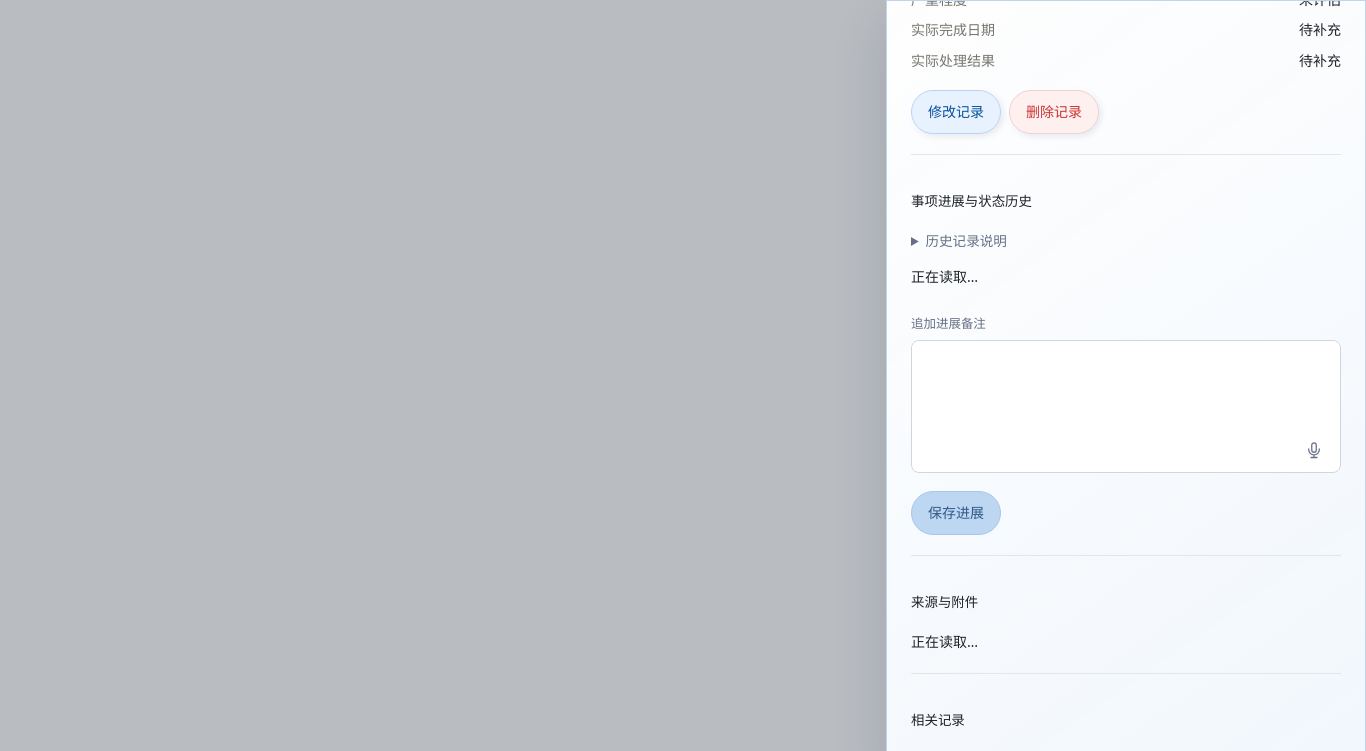
Test case: 待办进展失败保留草稿，重试追加成功且不修改原记录
(page scrolled)
Type "电工明天到场" into the text box labelled "追加进展备注". click: (1126, 384)
box: [912,341,1340,428]
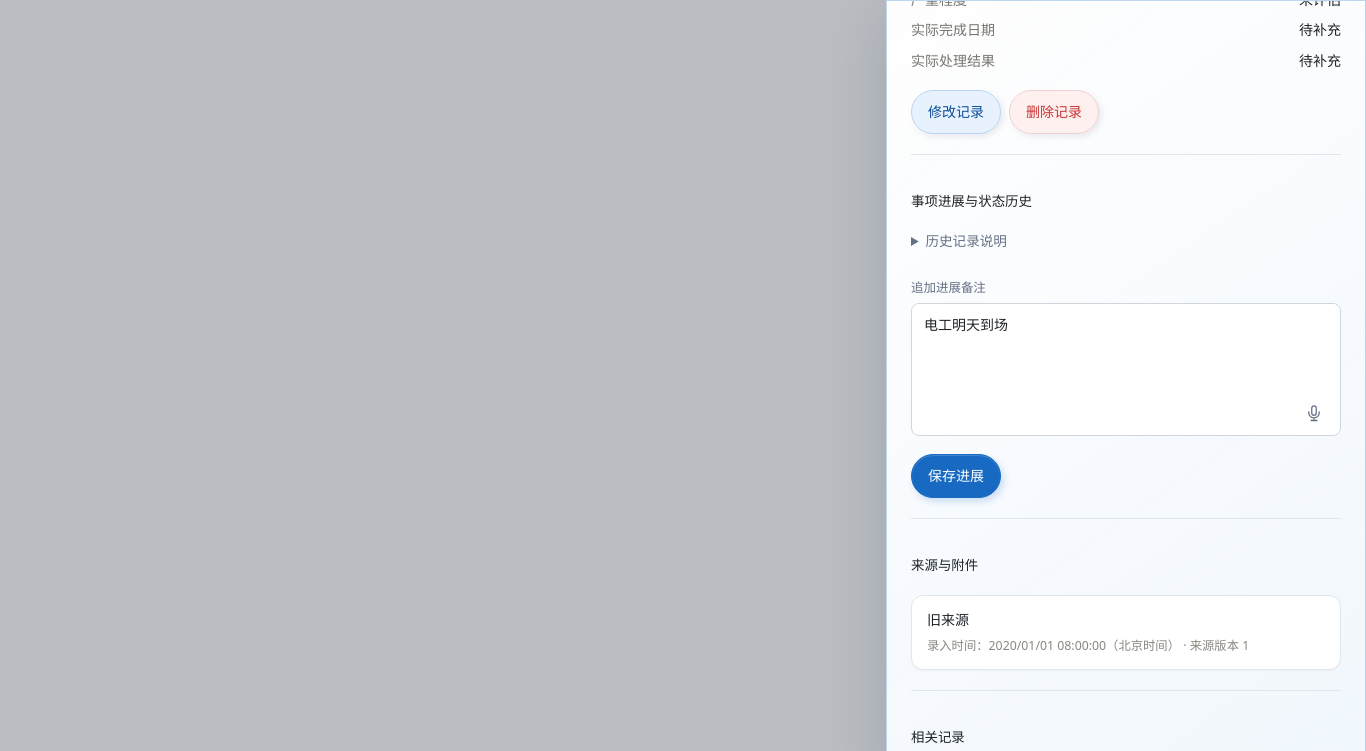
Click the button "保存进展". click: (956, 476)
box: [911,454,1001,498]
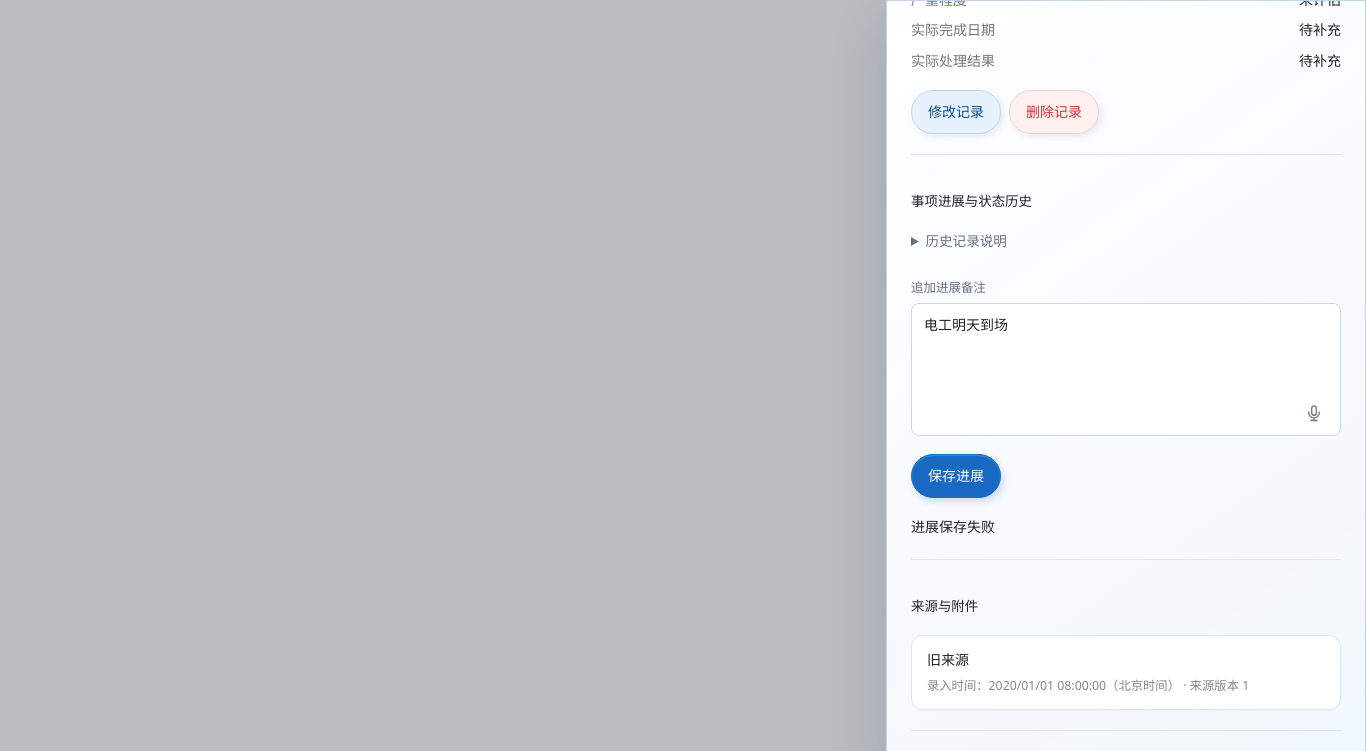
Now the text "进展保存失败" is shown, box [911,517,995,536]
Click the button "保存进展". click: (956, 476)
box: [911,454,1001,498]
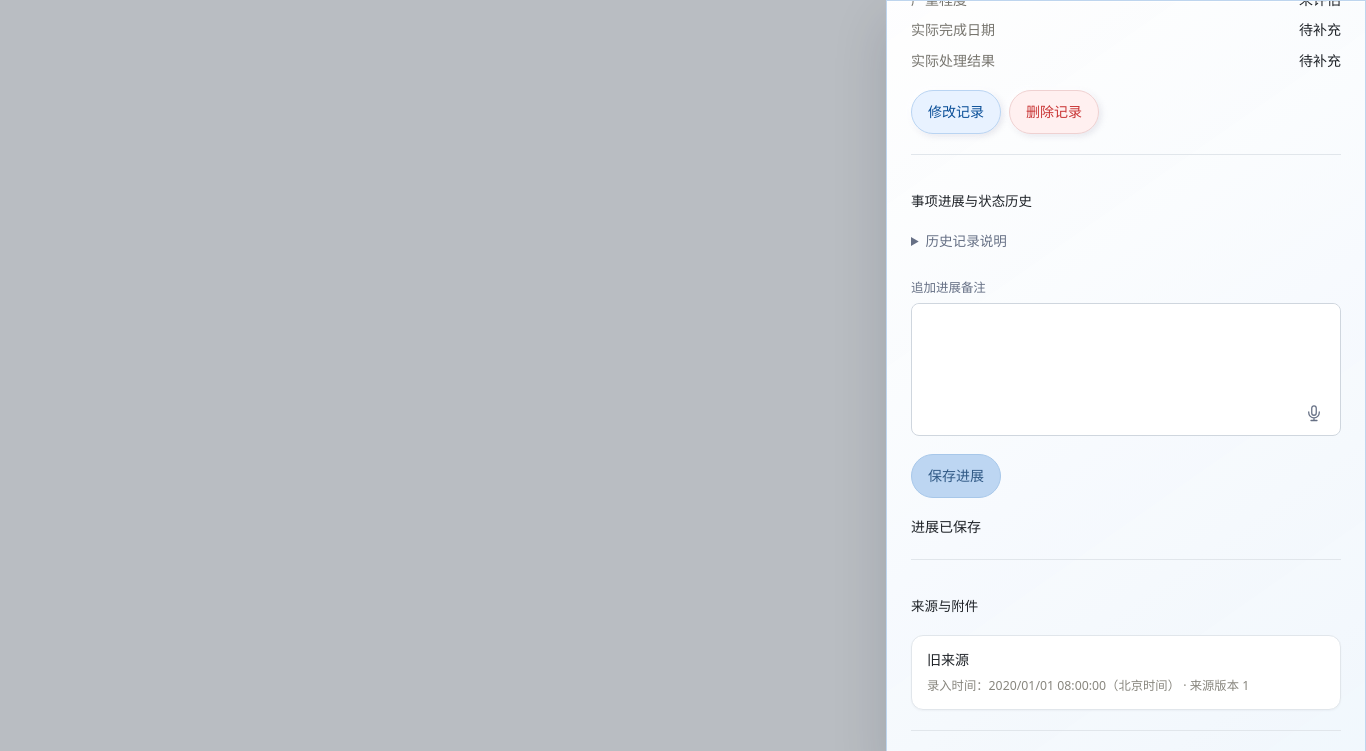
Now the text "进展已保存" is shown, box [911,517,981,536]
Now the text box labelled "追加进展备注" is empty, box [912,304,1340,391]
